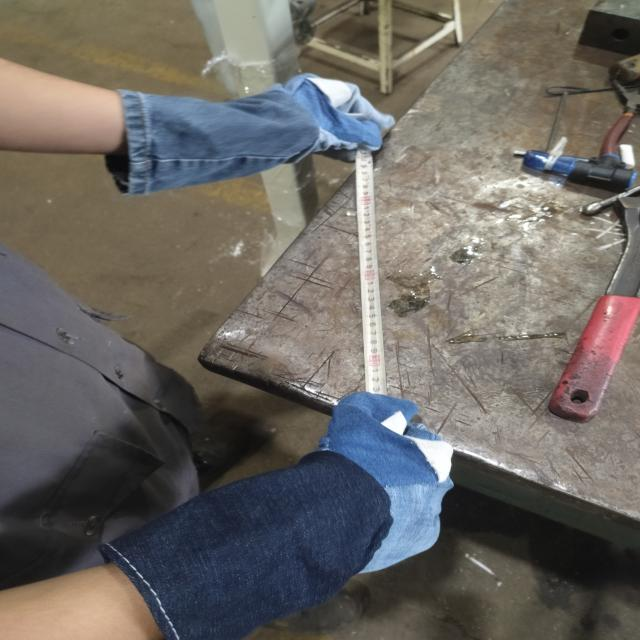Gloves-Detection: (120, 389, 456, 634), (110, 79, 400, 191)
